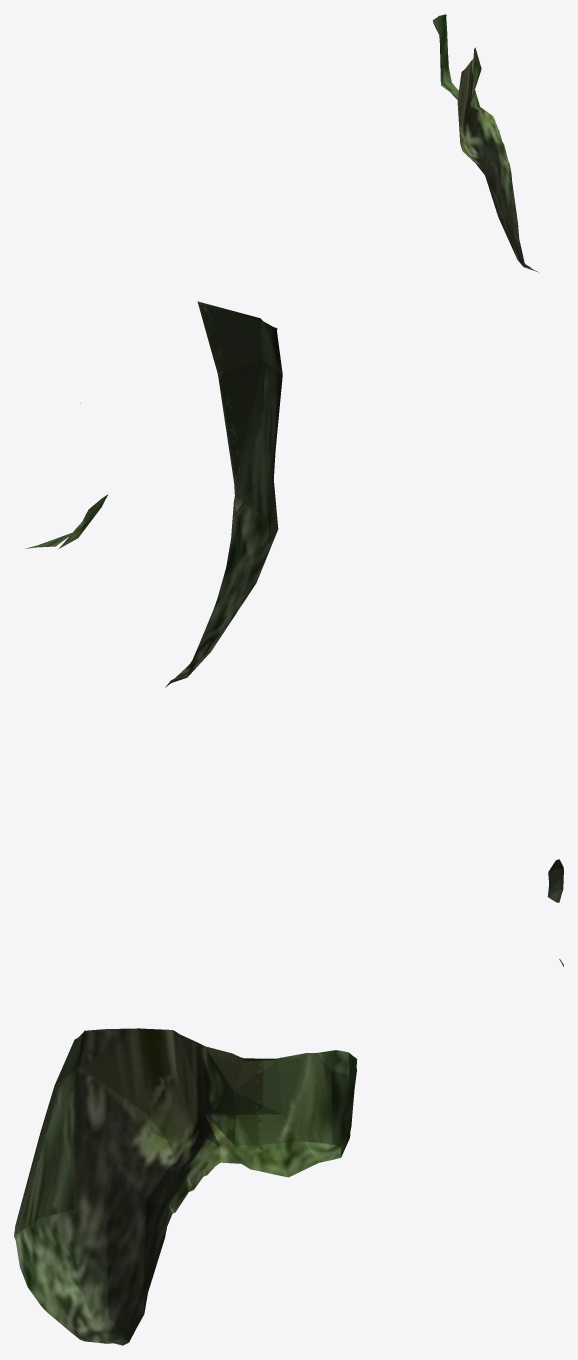
3 views of the same model, one above another, from view 1: azimuth 30°, elevation 25°; view 2: azimuth 150°, elevation 25°; view 3: azimuth 270°, elevation 25° (orthographic). The views are drawn at different scales.
Size of the model in its own units: 5.9 by 3.01 by 5.33.
Materials: 1 (1 with a texture image).
